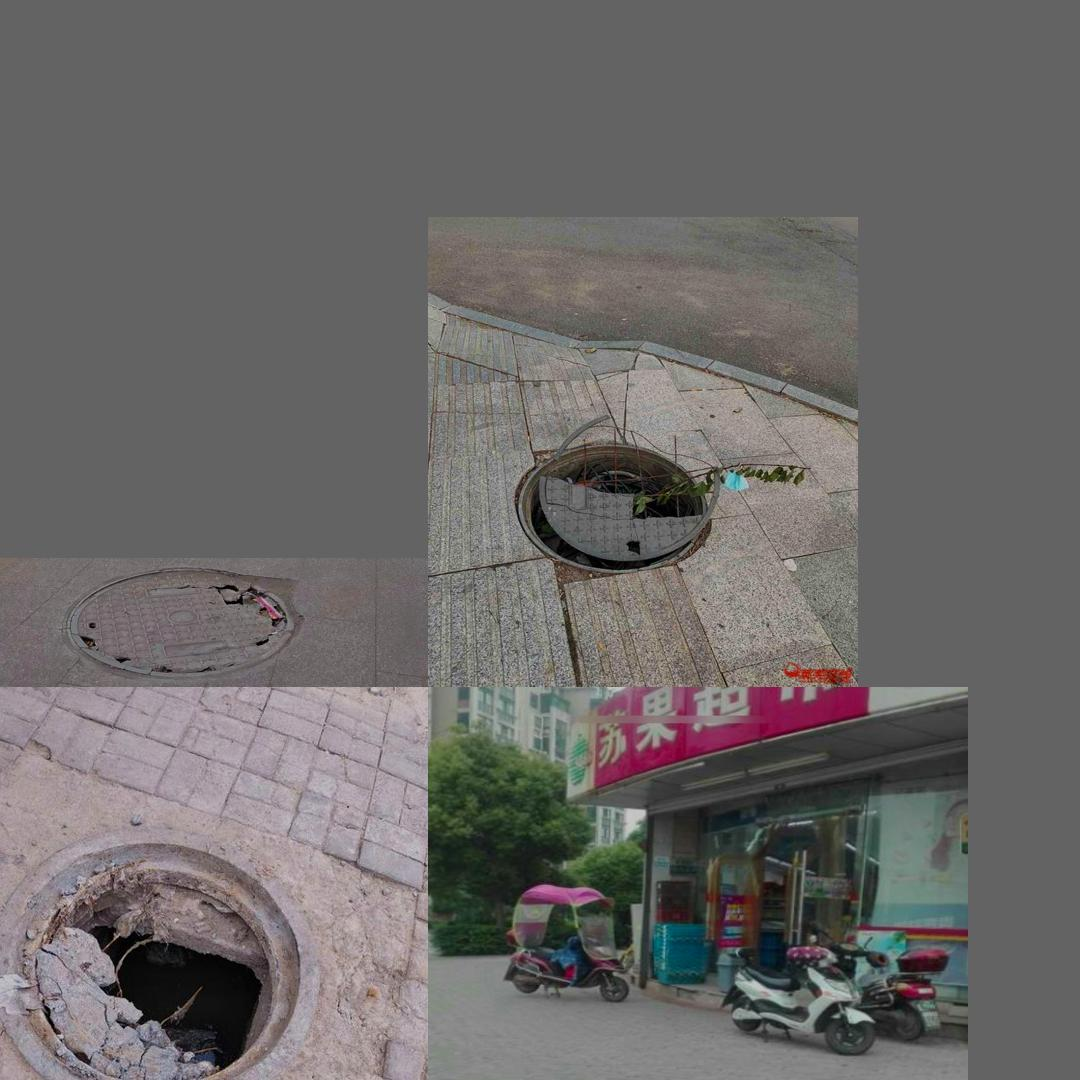broke: (0, 810, 367, 1080), (503, 426, 732, 582), (66, 568, 297, 678)
